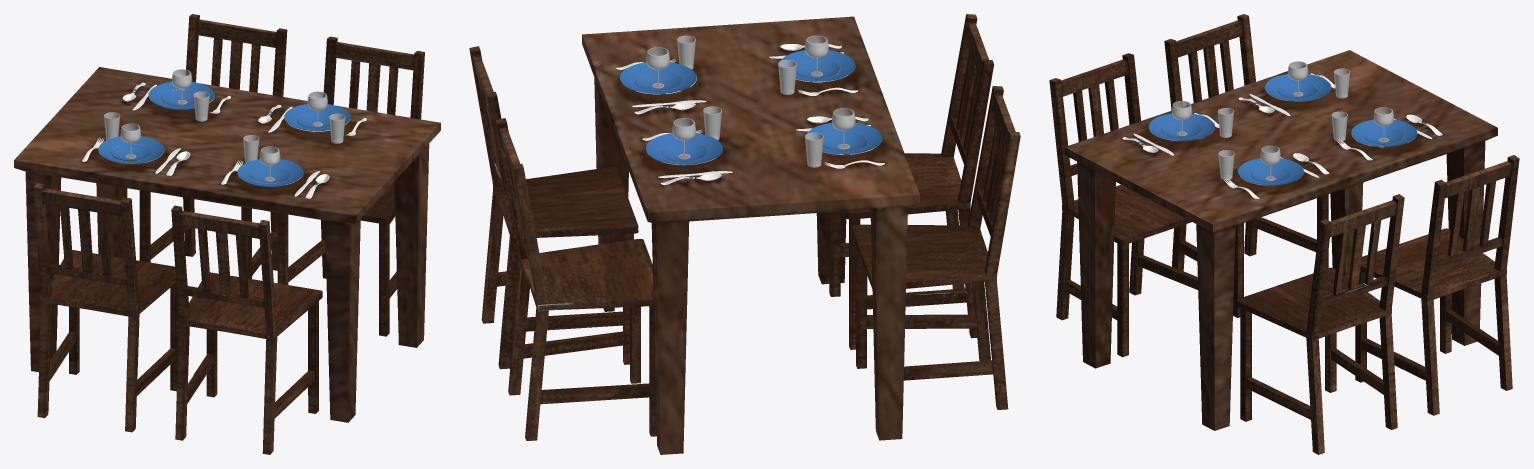
Rendered from DiningSet_1.glb.
3 views of the same model, side by side, from view 1: azimuth 30°, elevation 25°; view 2: azimuth 150°, elevation 25°; view 3: azimuth 270°, elevation 25° (orthographic). The views are drawn at different scales.
Visible parts, largest first — view 1: Table, Chair_1, Chair, Chair_2, Chair_3, Dinner_Plate, Dinner_Plate_2, Dinner_Plate_3, Dinner_Plate_4, Dinner_Plate_1, Dinner_Plate_1_2, Dinner_Plate_1_3 (+4 smaller); view 2: Table, Chair_3, Chair, Chair_2, Chair_1, Dinner_Plate_4, Dinner_Plate_3, Dinner_Plate_2, Dinner_Plate, Dinner_Plate_1_4, Dinner_Plate_1_3, Dinner_Plate_1_2 (+7 smaller); view 3: Table, Chair_2, Chair_3, Chair_1, Chair, Dinner_Plate_3, Dinner_Plate, Dinner_Plate_2, Dinner_Plate_4, Dinner_Plate_1, Dinner_Plate_1_2, Dinner_Plate_1_3 (+1 smaller).
Part boxes in pixels (x1,y1,x2,y2): Table: (14,67,440,422); Chair_1: (171,205,322,454); Chair: (33,183,178,432); Chair_2: (277,36,424,336); Chair_3: (139,14,287,278); Dinner_Plate: (237,159,303,186); Dinner_Plate_2: (98,136,164,164); Dinner_Plate_3: (148,82,214,109); Dinner_Plate_4: (284,104,350,131); Dinner_Plate_1: (250,166,290,183); Dinner_Plate_1_2: (111,144,151,161); Dinner_Plate_1_3: (161,89,200,106); Table: (582,16,919,454); Chair_3: (496,118,656,440); Chair: (851,86,1020,417); Chair_2: (469,46,638,369); Chair_1: (829,14,994,349); Dinner_Plate_4: (619,62,696,94); Dinner_Plate_3: (645,133,722,165); Dinner_Plate_2: (805,122,882,155); Dinner_Plate: (779,50,855,82); Dinner_Plate_1_4: (635,71,681,91); Dinner_Plate_1_3: (661,142,707,161); Dinner_Plate_1_2: (823,131,866,151); Table: (1064,50,1497,430); Chair_2: (1236,194,1404,454); Chair_3: (1355,155,1519,415); Chair_1: (1049,53,1198,357); Chair: (1164,14,1328,317); Dinner_Plate_3: (1351,119,1417,147); Dinner_Plate: (1148,113,1214,141); Dinner_Plate_2: (1264,74,1330,101); Dinner_Plate_4: (1238,158,1303,185); Dinner_Plate_1: (1161,121,1201,138); Dinner_Plate_1_2: (1278,81,1317,98); Dinner_Plate_1_3: (1364,127,1403,144).
Size of the model in its own units: 169 by 90.93 by 159.
Materials: 1 (1 with a texture image).
